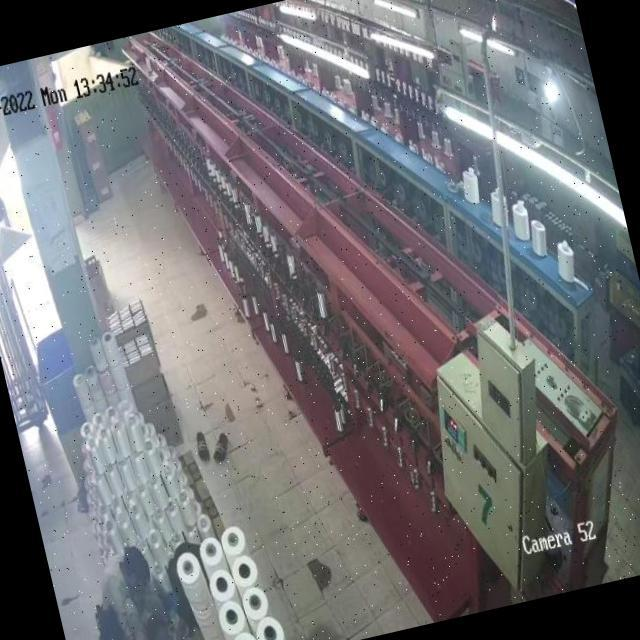person: (96, 544, 164, 627), (144, 603, 204, 640), (89, 609, 139, 640)
